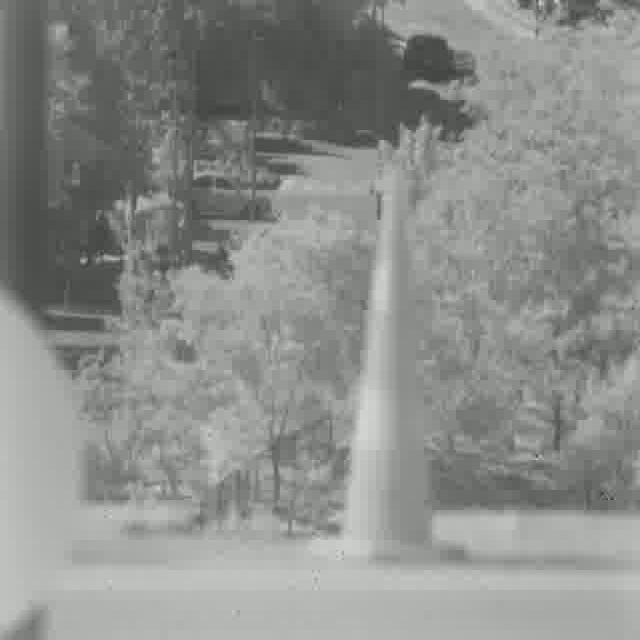Car: (402, 33, 454, 82)
